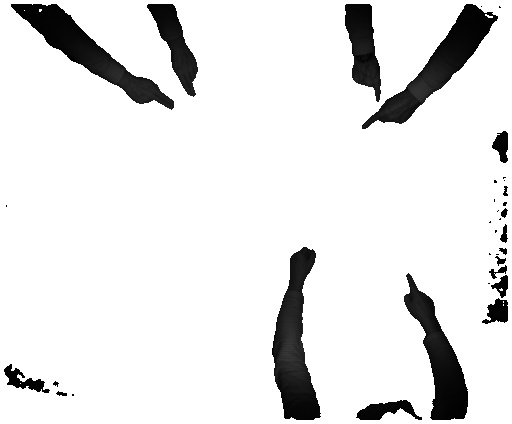fist: (288, 240, 319, 279)
hand: (362, 95, 416, 135), (400, 272, 439, 325), (126, 79, 178, 111), (352, 55, 384, 103), (172, 46, 199, 100)
